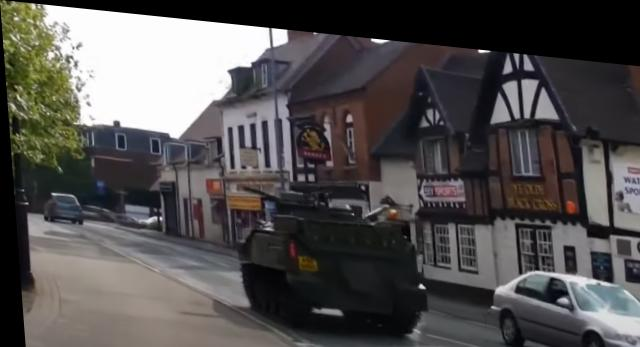tank: (242, 190, 417, 322)
